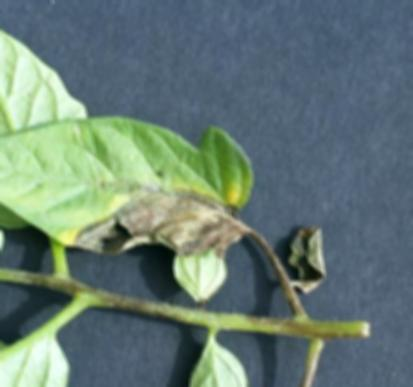Tomato leaf late blight: (0, 116, 264, 274)
